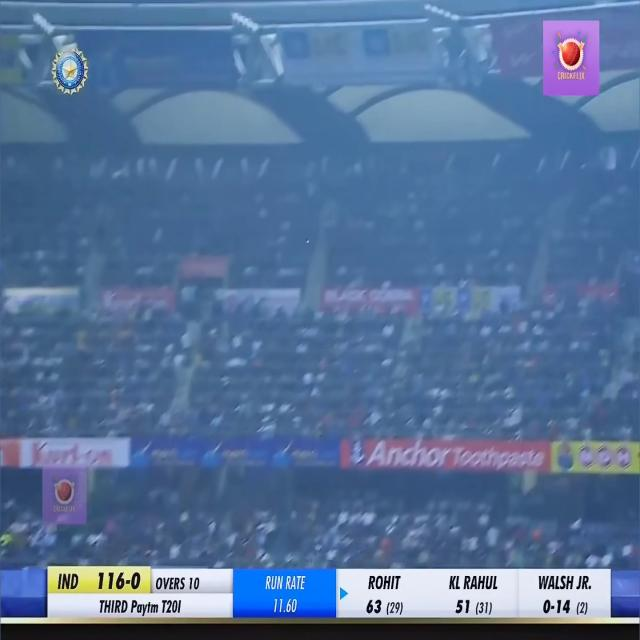fully_visible: (130, 592, 161, 626)
